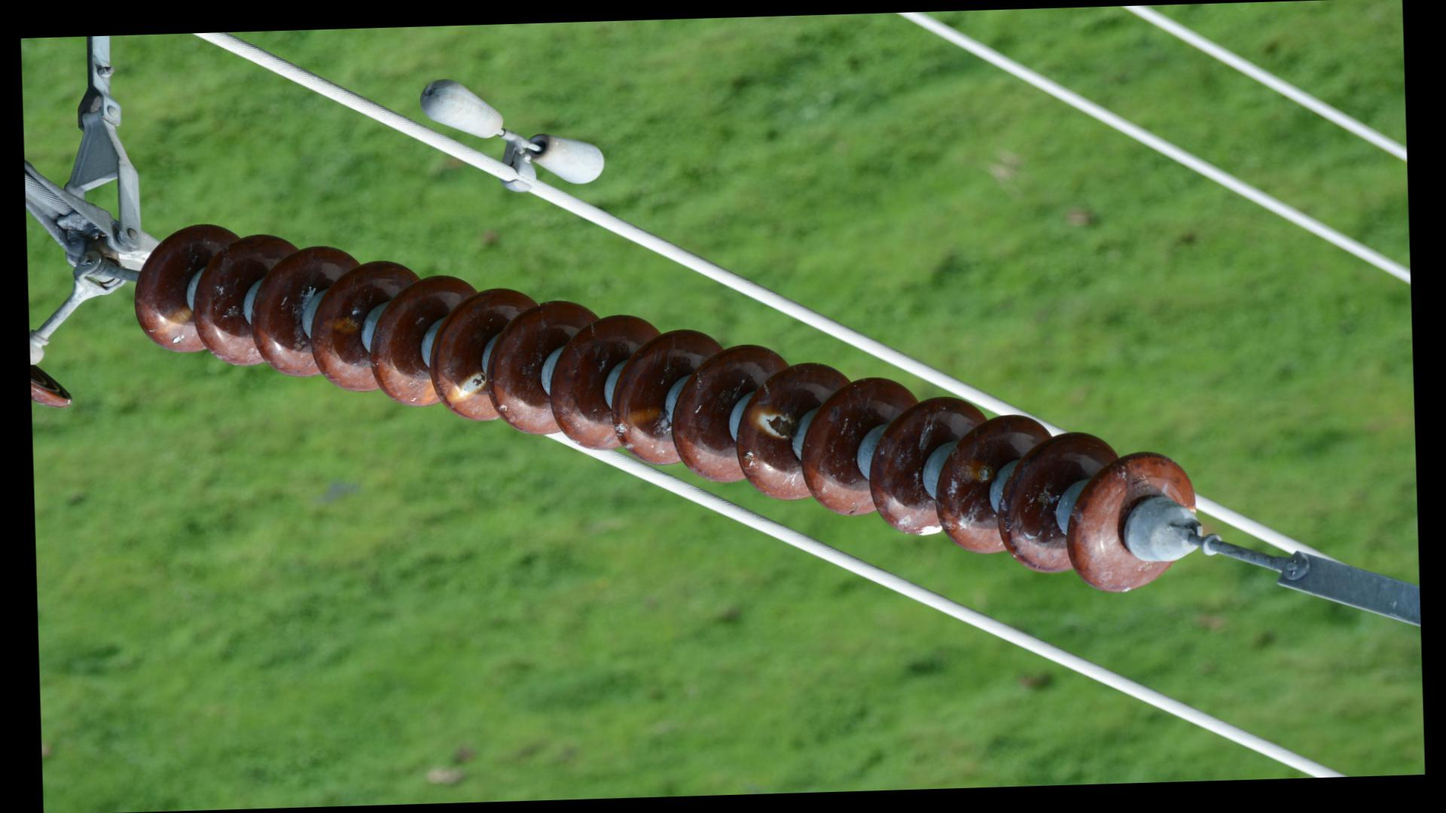damper: (413, 69, 613, 202)
